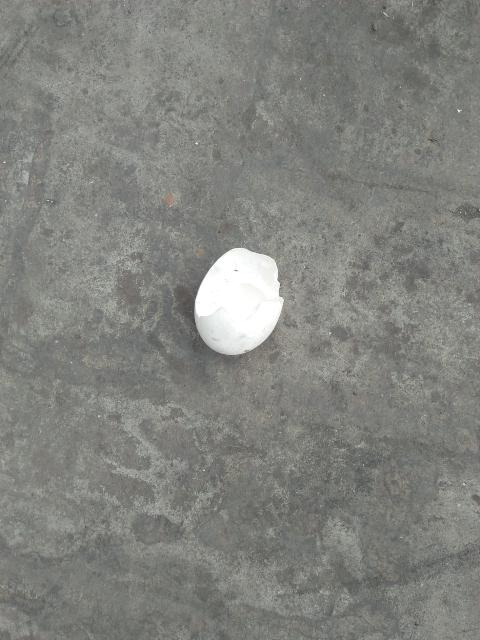Roto: (193, 246, 284, 356)
